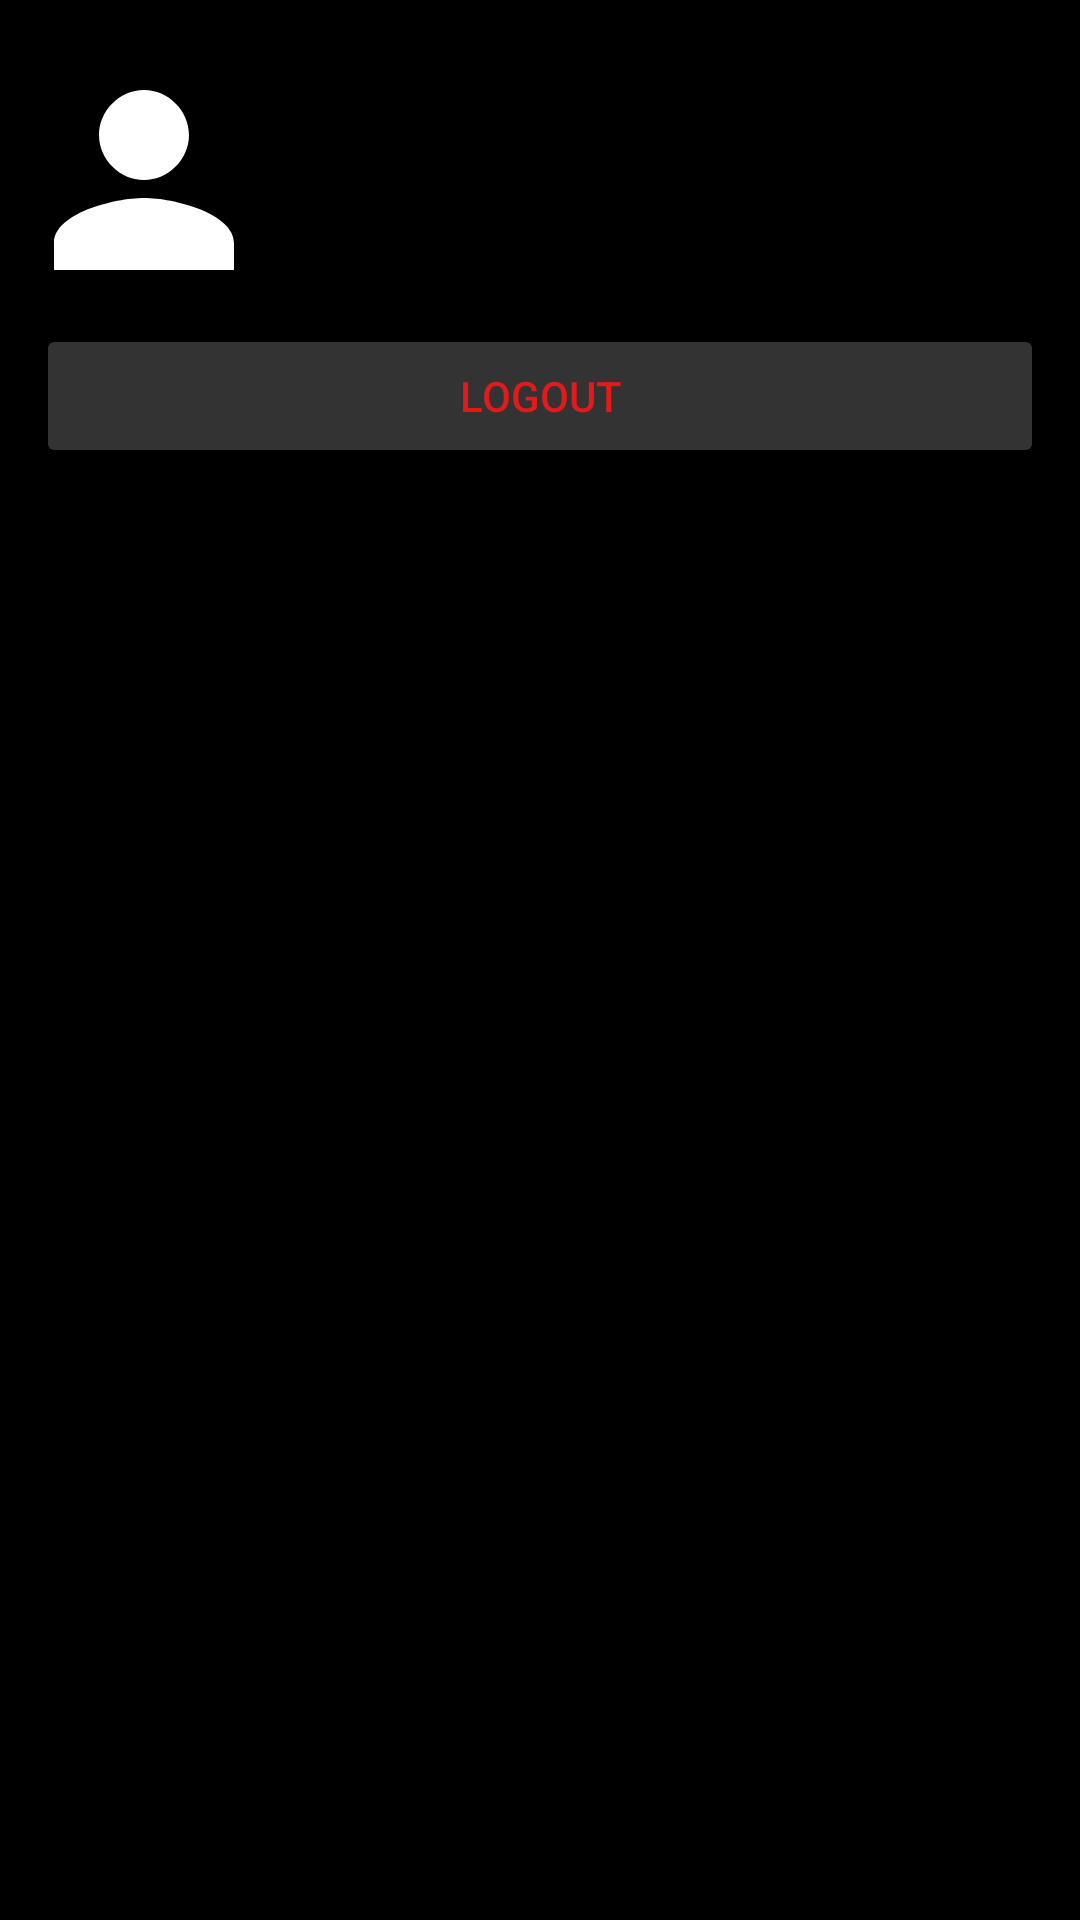

Locate icon controls on the screen. Image size 1080 x 1920, boxes as (x1, y1, x2, y2).
profile: (54, 90, 234, 270)
